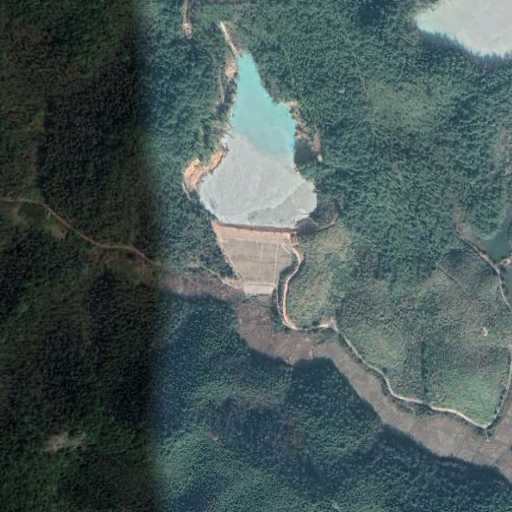tp: (190, 46, 320, 304)
